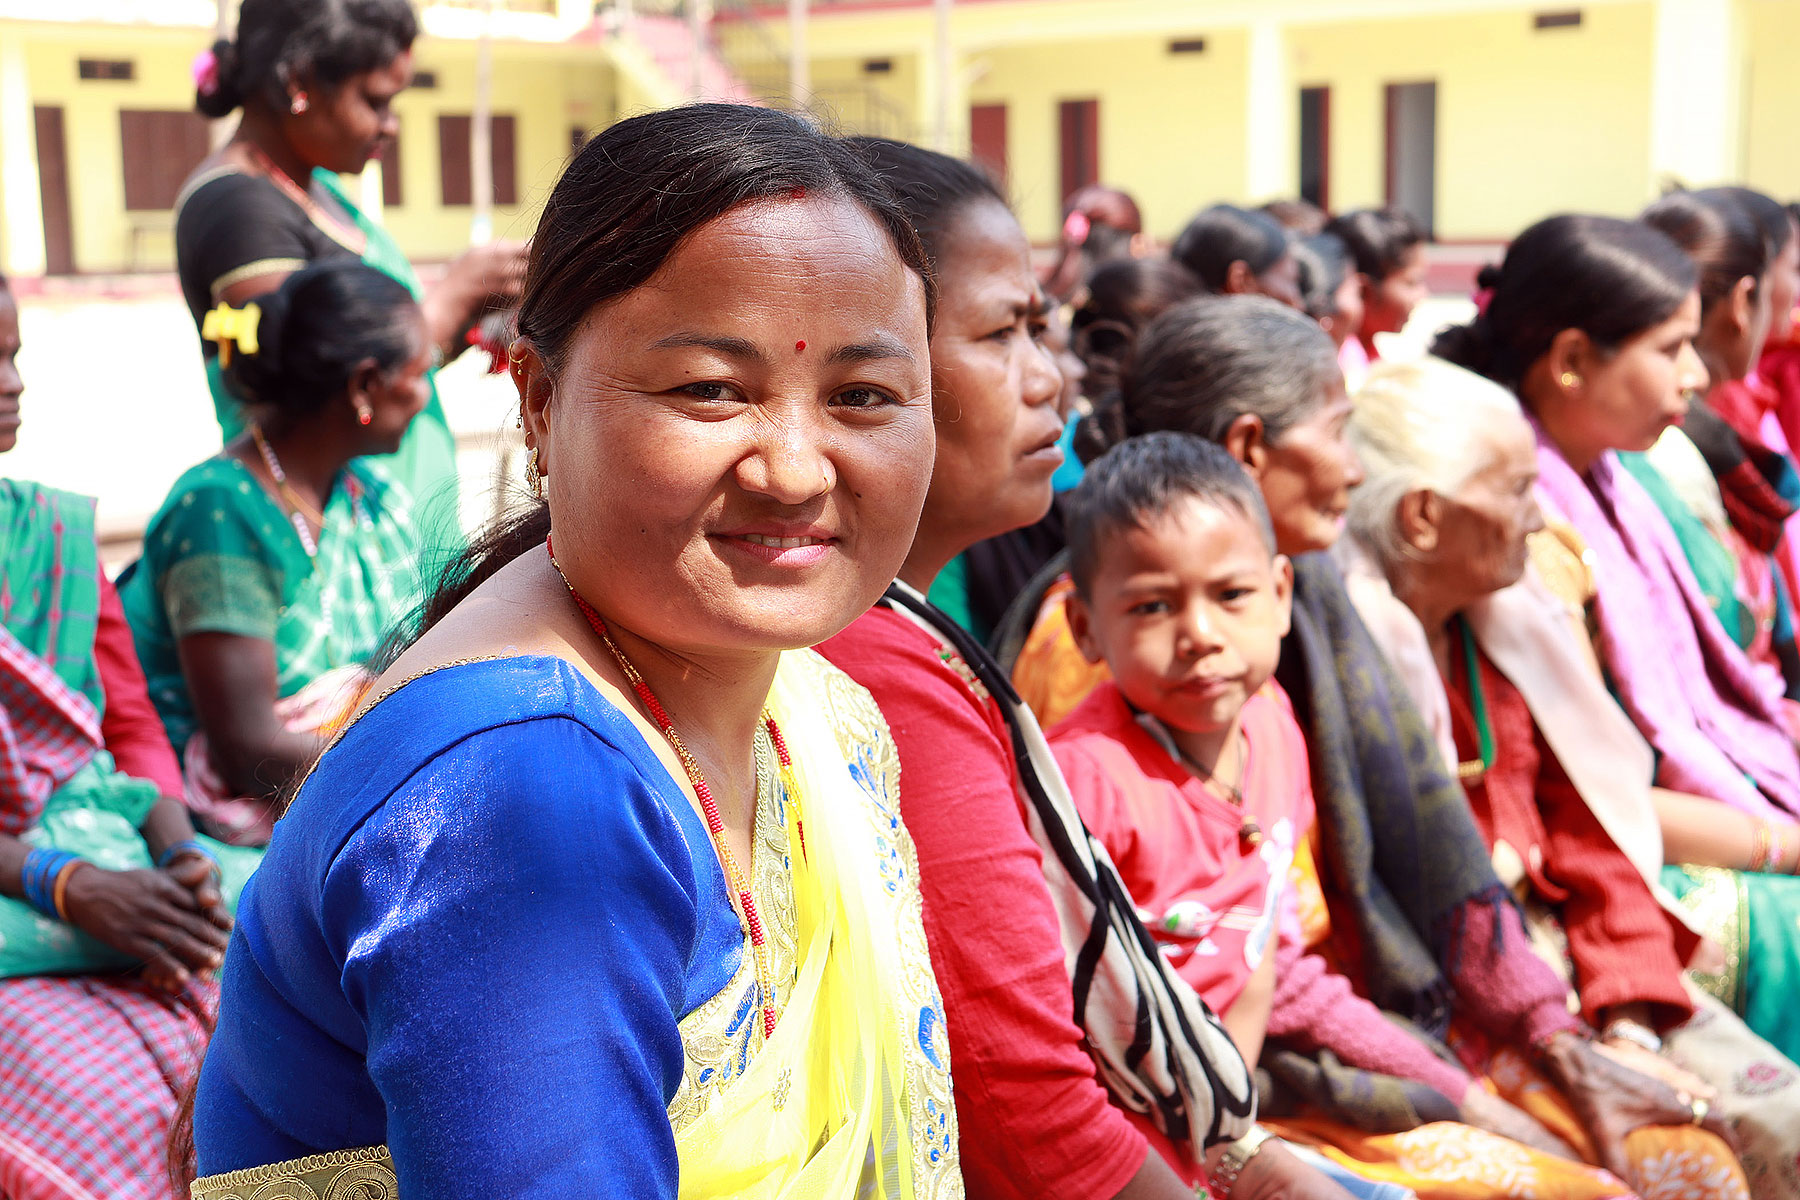human: (155, 96, 973, 1200), (836, 121, 1333, 1200), (1417, 186, 1800, 1131), (1035, 410, 1352, 1178)
